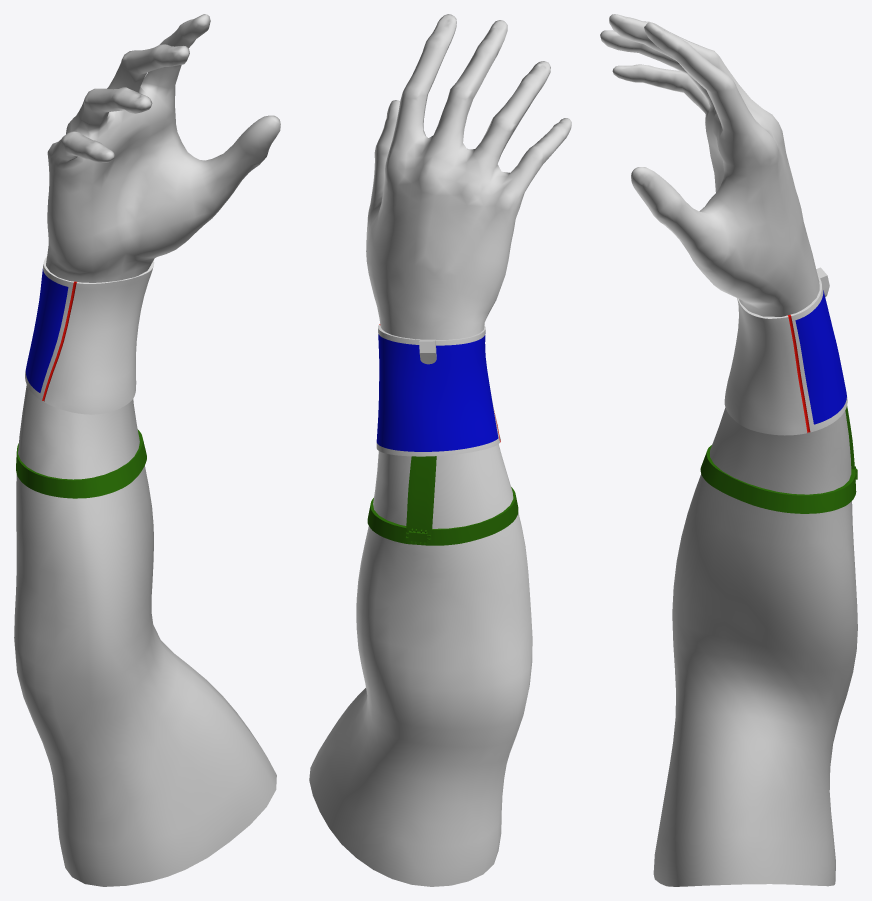
The model's file is S_BRAS_5.fbx.
3 renders of one model, left to right at view 1: azimuth 30°, elevation 25°; view 2: azimuth 150°, elevation 25°; view 3: azimuth 270°, elevation 25°, orthographic. The views are drawn at different scales.
Visible parts, largest first — view 1: CHARA_Hand_Rigged; view 2: CHARA_Hand_Rigged; view 3: CHARA_Hand_Rigged.
Part boxes in pixels (x1=…): CHARA_Hand_Rigged: x1=14, y1=14, x2=280, y2=886; CHARA_Hand_Rigged: x1=309, y1=14, x2=571, y2=886; CHARA_Hand_Rigged: x1=600, y1=14, x2=857, y2=886.
Size of the model in its own units: 25.33 by 90.59 by 23.94.
